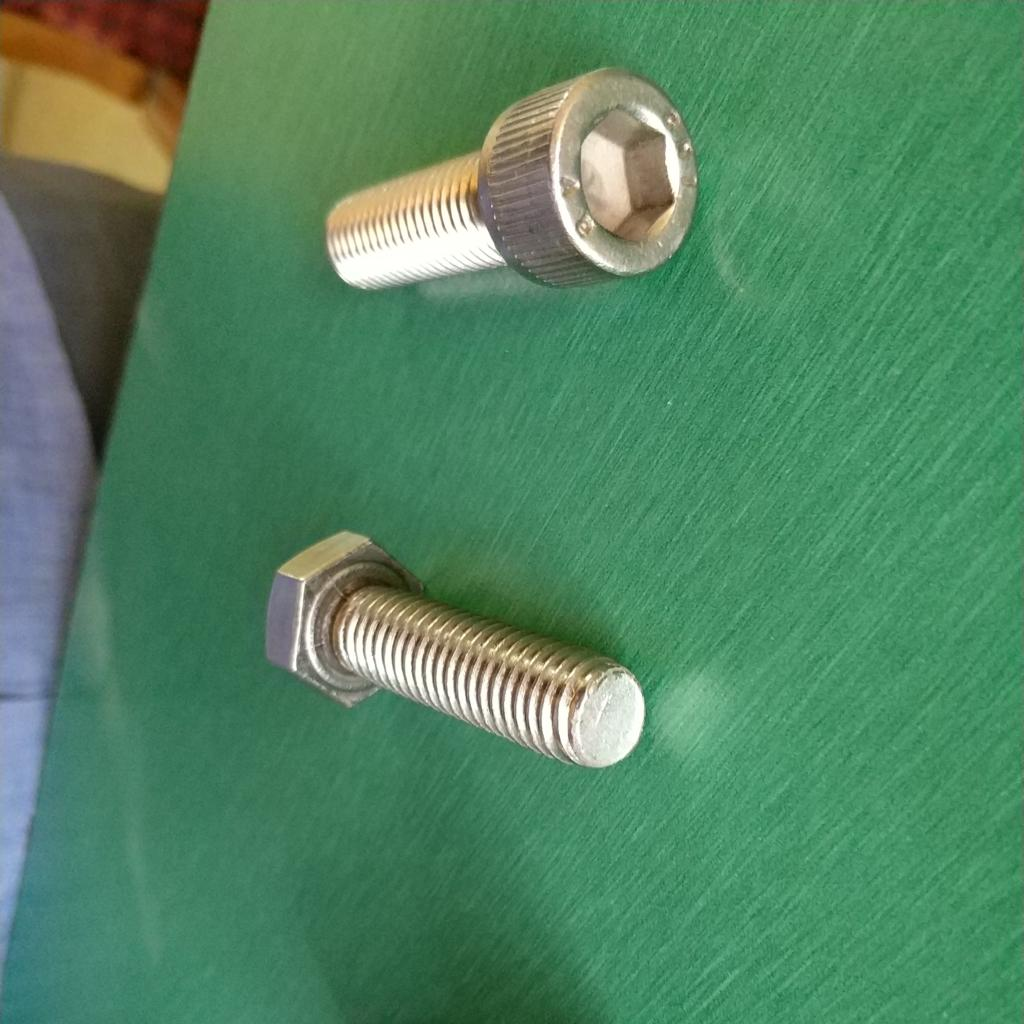screwtype1silver: (318, 62, 699, 306)
screwtype2silver: (254, 526, 645, 783)
